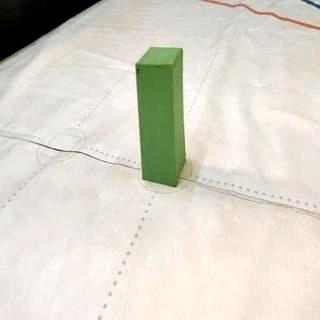greenbox: (135, 46, 187, 189)
